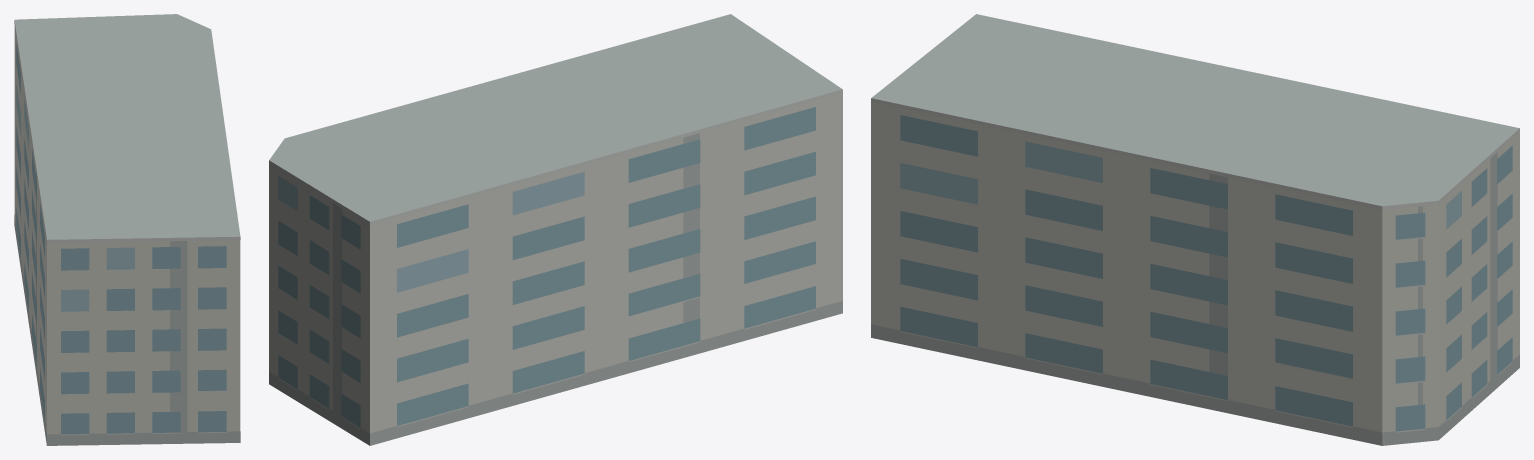
File: residential-f1122fa0-2869-4cbd-94c6-d0c11c2b114f.glb
3 renders of one model, left to right at view 1: azimuth 30°, elevation 25°; view 2: azimuth 150°, elevation 25°; view 3: azimuth 270°, elevation 25°, orthographic. The views are drawn at different scales.
Visible parts, largest first — view 1: residential-f1122fa0-2869-4cbd-94c6-d0c11c2b114f.tmp; view 2: residential-f1122fa0-2869-4cbd-94c6-d0c11c2b114f.tmp; view 3: residential-f1122fa0-2869-4cbd-94c6-d0c11c2b114f.tmp.
Boxes of the visible parts, x1=… form: residential-f1122fa0-2869-4cbd-94c6-d0c11c2b114f.tmp: x1=14, y1=14, x2=240, y2=445; residential-f1122fa0-2869-4cbd-94c6-d0c11c2b114f.tmp: x1=269, y1=14, x2=842, y2=445; residential-f1122fa0-2869-4cbd-94c6-d0c11c2b114f.tmp: x1=871, y1=14, x2=1519, y2=445.
Bounding box in the file's own units: 25.82 × 15 × 36.81.
